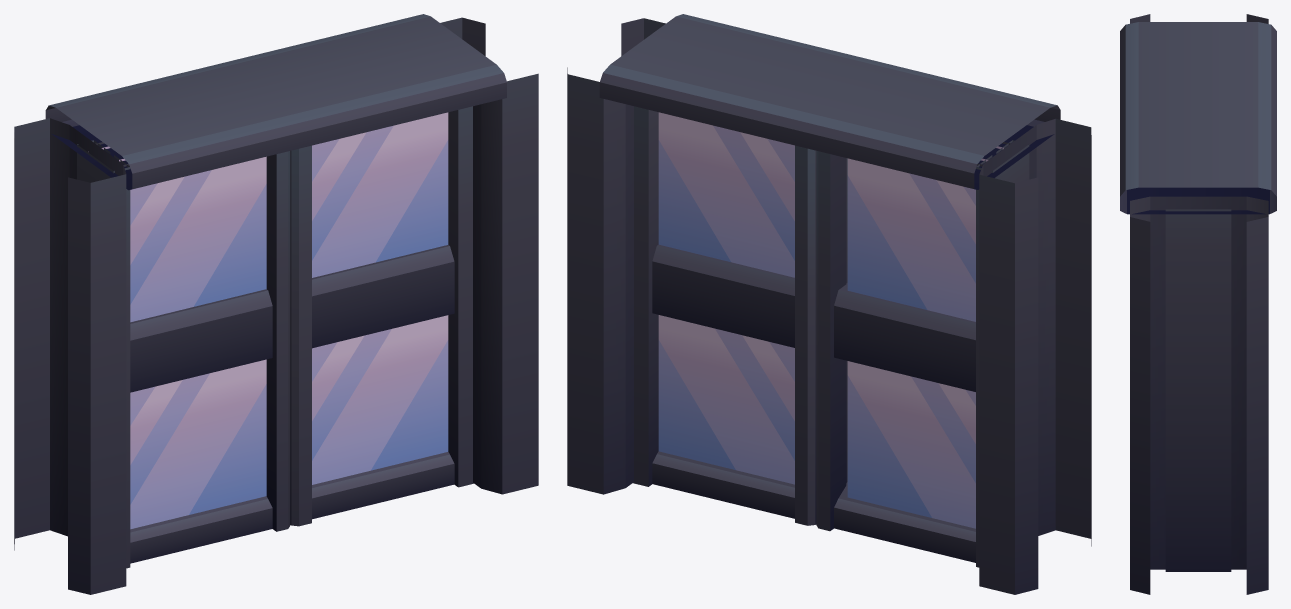
Rendered from door_d.fbx.
The picture shows the model from 3 angles, left to right: view 1: azimuth 30°, elevation 25°; view 2: azimuth 150°, elevation 25°; view 3: azimuth 270°, elevation 25°; orthographic projection. The views are drawn at different scales.
Parts seen in each view (by area): view 1: automatic_door_frame, automatic_door_right, automatic_door_left; view 2: automatic_door_frame, automatic_door_right, automatic_door_left; view 3: automatic_door_frame, automatic_door_right.
Boxes of the visible parts, x1,y1,x2,y2 form: automatic_door_frame: (14, 14, 538, 594); automatic_door_right: (290, 106, 473, 526); automatic_door_left: (77, 140, 290, 568); automatic_door_frame: (567, 14, 1091, 594); automatic_door_right: (633, 106, 816, 525); automatic_door_left: (816, 140, 1029, 567); automatic_door_frame: (1120, 14, 1276, 594); automatic_door_right: (1165, 209, 1231, 571).
Size of the model in its own units: 231 by 200 by 73.48.
